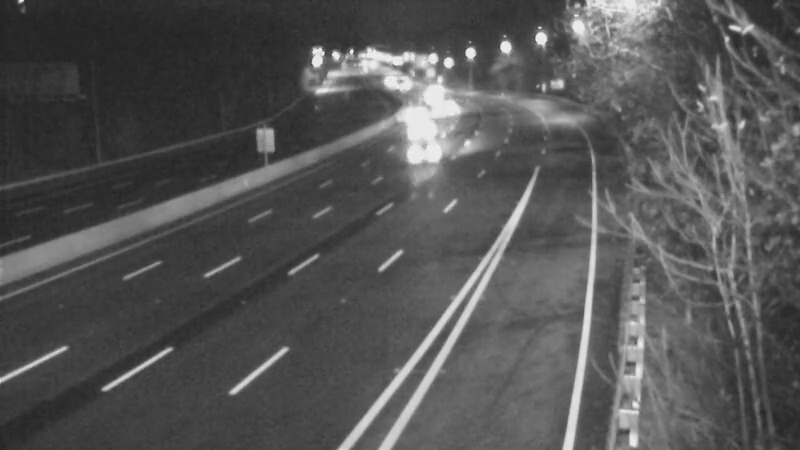vehicle: (379, 57, 429, 107), (403, 70, 453, 120), (423, 80, 473, 130), (386, 88, 436, 138), (404, 103, 454, 153), (402, 125, 452, 175)
